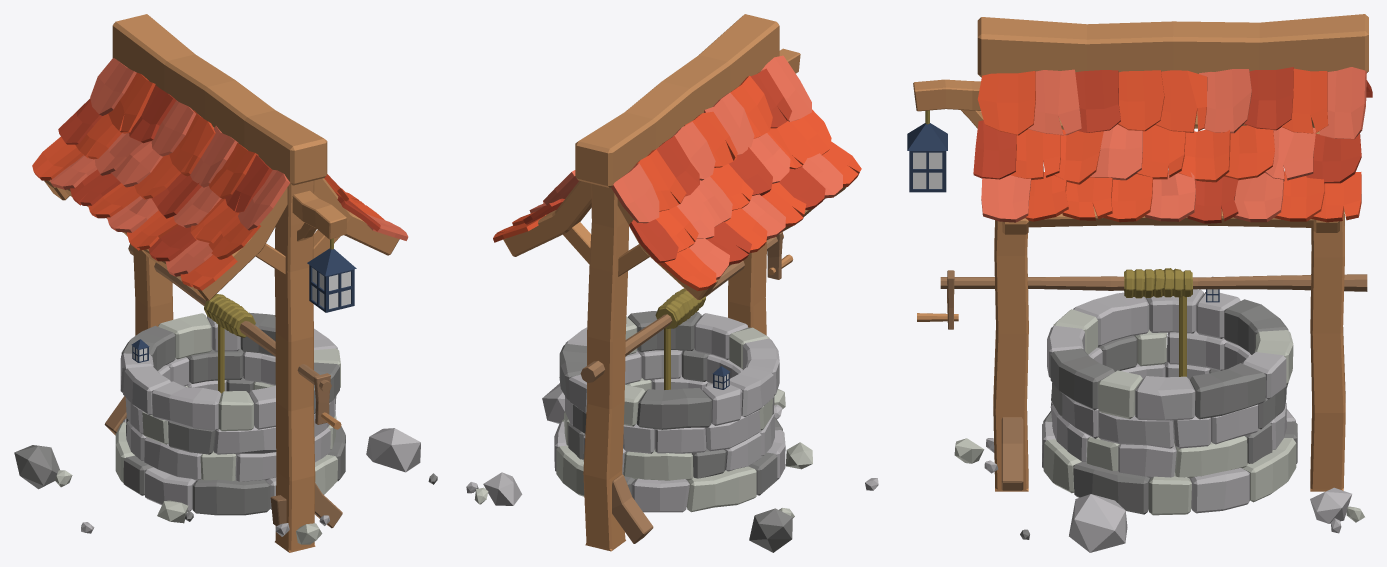
File: WaterDing.fbx
3 renders of one model, left to right at view 1: azimuth 30°, elevation 25°; view 2: azimuth 150°, elevation 25°; view 3: azimuth 270°, elevation 25°, orthographic. The views are drawn at different scales.
Visible parts, largest first — view 1: Cube.030; view 2: Cube.030; view 3: Cube.030.
Boxes of the visible parts, box(x1,y1,x2,y2) form: Cube.030: box(14, 14, 437, 552); Cube.030: box(466, 14, 878, 552); Cube.030: box(907, 14, 1372, 552).
Size of the model in its own units: 2315 by 2735 by 2513.
